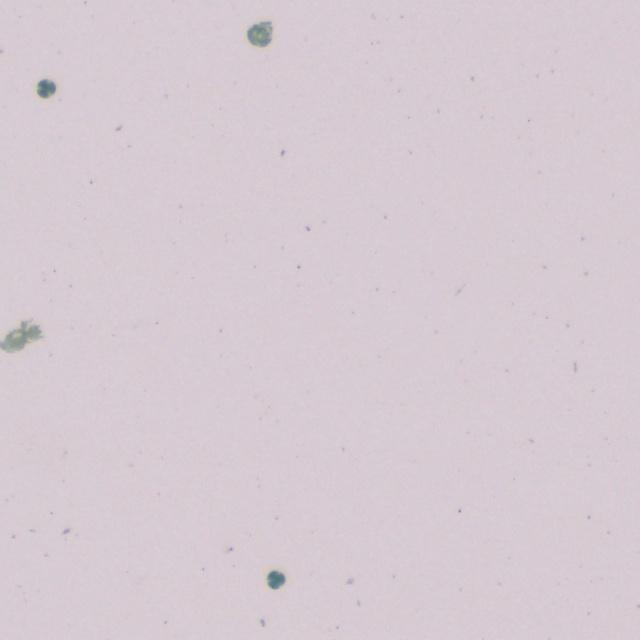non_viable: (247, 22, 271, 47), (37, 79, 55, 98), (267, 570, 285, 589)
